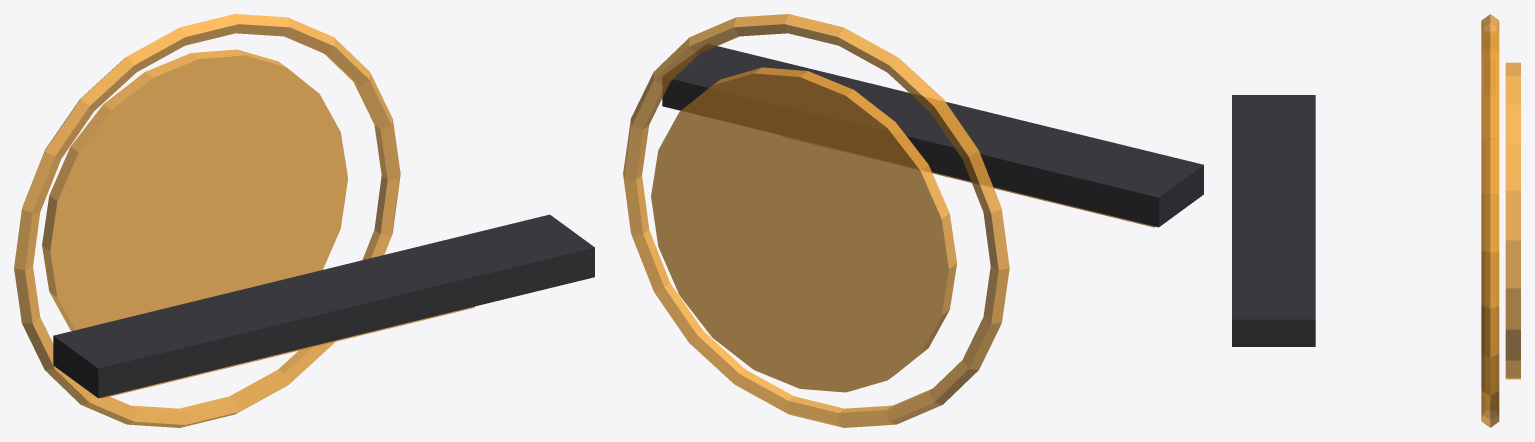
The model's file is stamina_bar_worldspace.glb.
3 views of the same model, side by side, from view 1: azimuth 30°, elevation 25°; view 2: azimuth 150°, elevation 25°; view 3: azimuth 270°, elevation 25° (orthographic). The views are drawn at different scales.
Parts seen in each view (by area): view 1: marker_disc, ui_frame, marker_ring, ui_fill; view 2: marker_disc, ui_frame, marker_ring; view 3: ui_frame, marker_ring, marker_disc.
Boxes of the visible parts, bbox=[...] form: marker_disc: bbox=[42, 49, 347, 330]; ui_frame: bbox=[53, 214, 594, 398]; marker_ring: bbox=[14, 14, 400, 427]; ui_fill: bbox=[101, 306, 474, 398]; marker_disc: bbox=[651, 67, 956, 392]; ui_frame: bbox=[662, 44, 1203, 227]; marker_ring: bbox=[623, 14, 1009, 427]; ui_frame: bbox=[1232, 95, 1315, 346]; marker_ring: bbox=[1481, 14, 1499, 427]; marker_disc: bbox=[1505, 62, 1520, 379].
Size of the model in its own units: 1.4 by 1.08 by 0.76.
